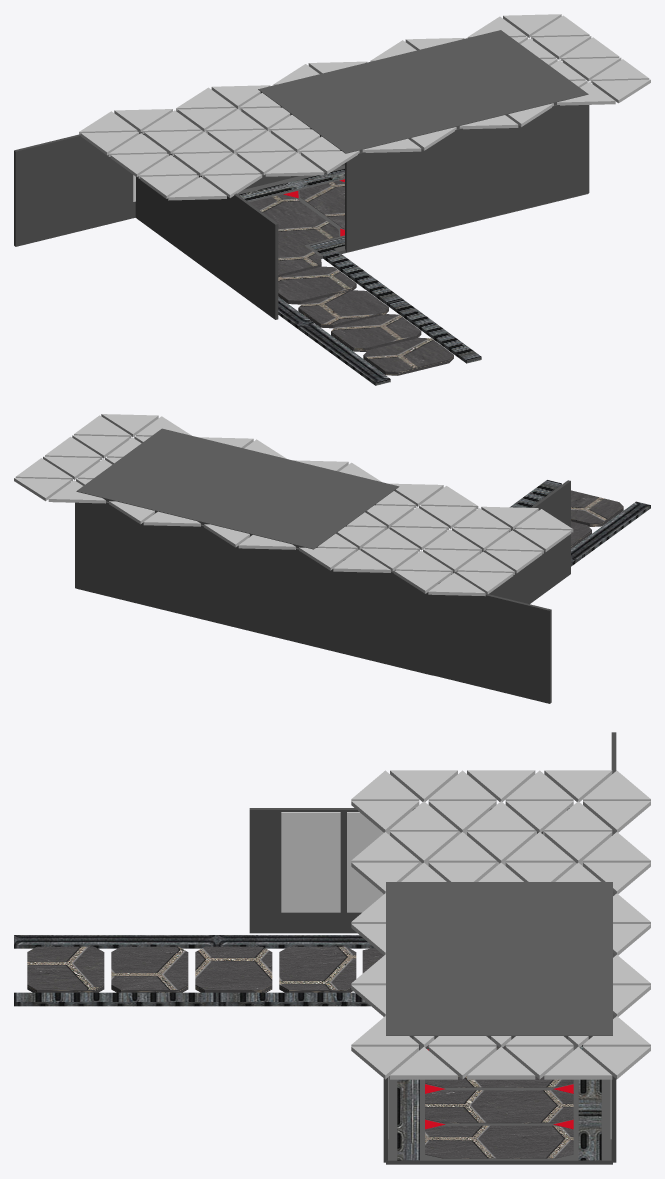
The model's file is mainmenuopposite.fbx.
The picture shows the model from 3 angles, top to bottom: view 1: azimuth 30°, elevation 25°; view 2: azimuth 150°, elevation 25°; view 3: azimuth 270°, elevation 25°; orthographic projection. The views are drawn at different scales.
Visible parts, largest first — view 1: Cube.040, Cube.038, Cube.039, Cube.036, Cube.045, Cube.046, Cube.043, Cube.044; view 2: Cube.040, Cube.045, Cube.037, Cube.039, Cube.046, Cube.043, Cube.036; view 3: Cube.040, Cube.039, Cube.036, Cube.043, Cube.046, Cube.054, Cube.044, Cube.053.
Part boxes in pixels (x1,y1,x2,y2): Cube.040: [79, 14, 650, 200]; Cube.038: [345, 105, 589, 251]; Cube.039: [258, 30, 588, 153]; Cube.036: [249, 181, 453, 375]; Cube.045: [14, 99, 258, 246]; Cube.046: [135, 131, 278, 319]; Cube.043: [239, 169, 481, 385]; Cube.044: [142, 165, 588, 267]; Cube.040: [14, 414, 573, 596]; Cube.045: [312, 559, 551, 703]; Cube.037: [75, 501, 312, 645]; Cube.039: [76, 428, 399, 549]; Cube.046: [451, 480, 570, 604]; Cube.043: [510, 480, 650, 566]; Cube.036: [571, 490, 623, 548]; Cube.040: [351, 770, 650, 1079]; Cube.039: [386, 882, 612, 1039]; Cube.036: [27, 946, 573, 1158]; Cube.043: [14, 935, 601, 1160]; Cube.046: [249, 808, 589, 933]; Cube.054: [281, 812, 340, 912]; Cube.044: [386, 1045, 612, 1164]; Cube.053: [347, 812, 389, 912].
Bounding box in the file's own units: 3610 × 630 × 2806.
8 materials, 2 textured.
